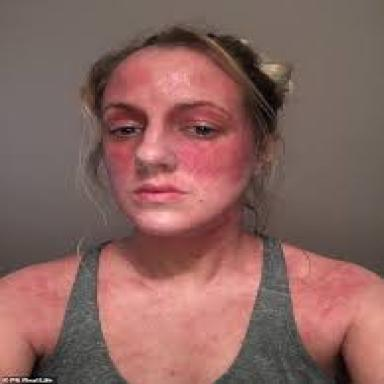burn: (103, 47, 249, 190), (285, 245, 382, 383), (0, 256, 77, 374), (202, 237, 257, 371), (101, 248, 123, 360)
